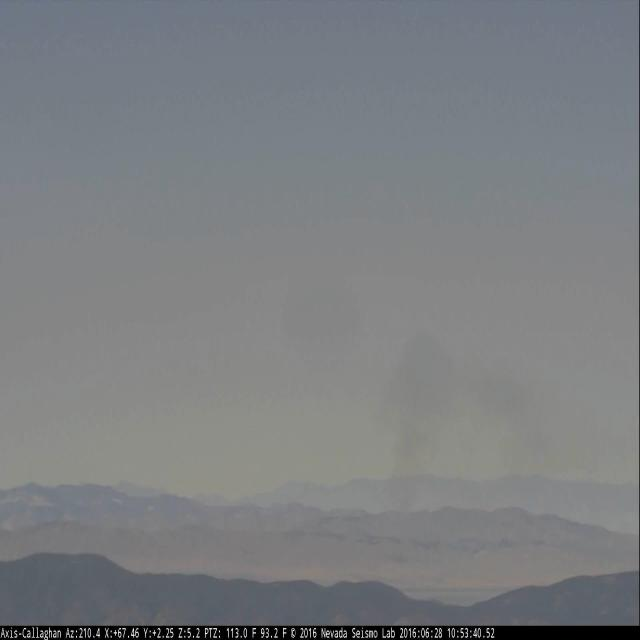smoke: (383, 332, 461, 514)
